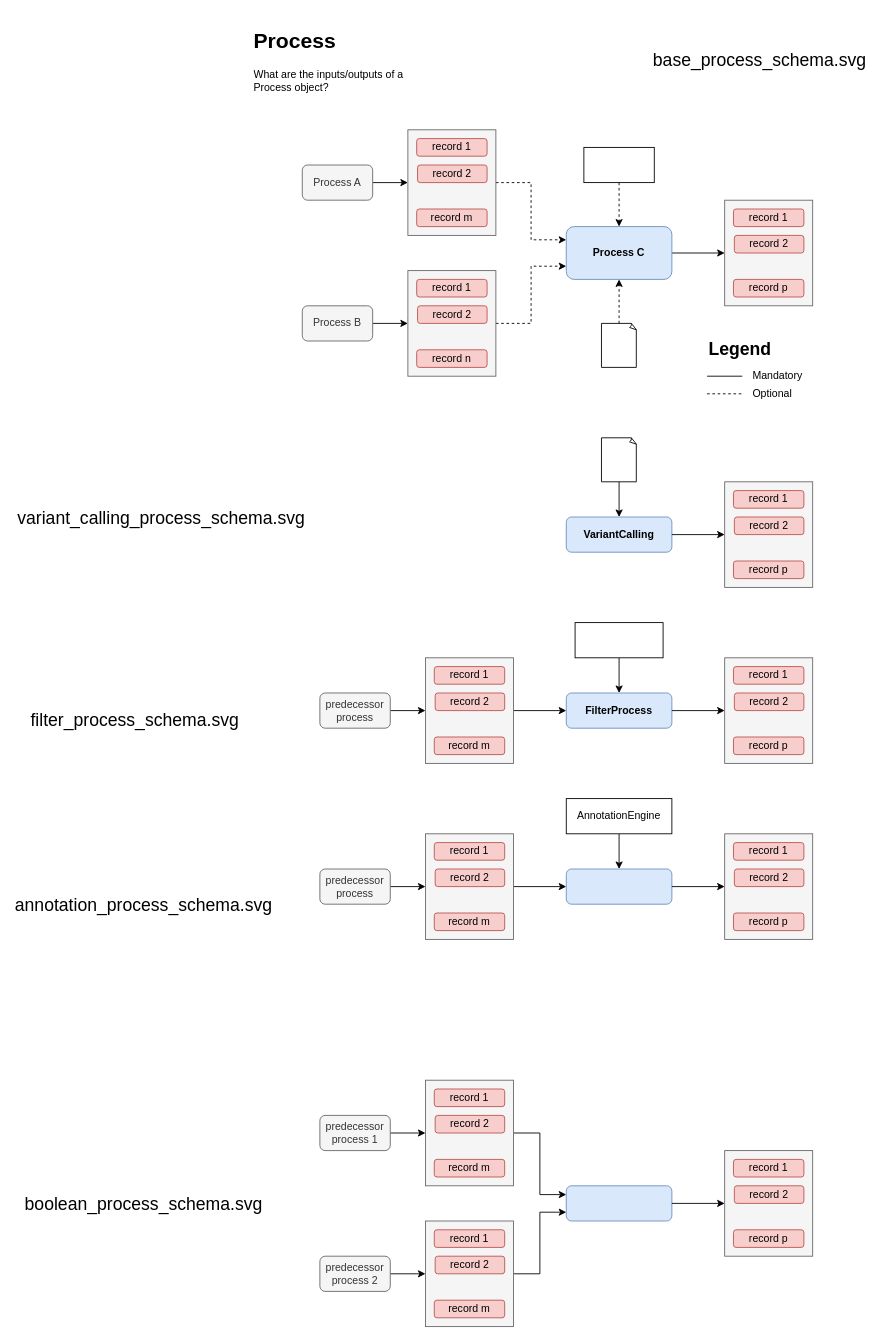
This 881x1342 diagram has some shape labels left out. Each missing label, with the box of its shape:
AnnotationProcess: (565, 868, 672, 904)
BooleanProcess: (565, 1185, 672, 1221)
configuration: (583, 147, 654, 183)
file: (601, 323, 637, 367)
FilterEngine: (574, 622, 663, 658)
VCF: (601, 437, 637, 482)
